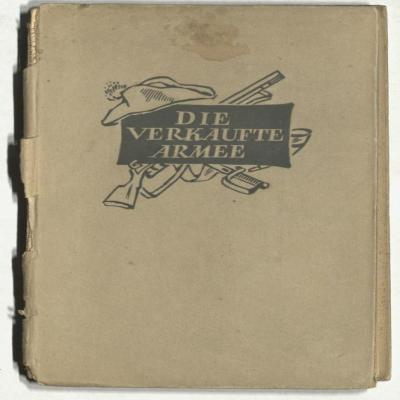printed_products: (17, 0, 400, 400)
